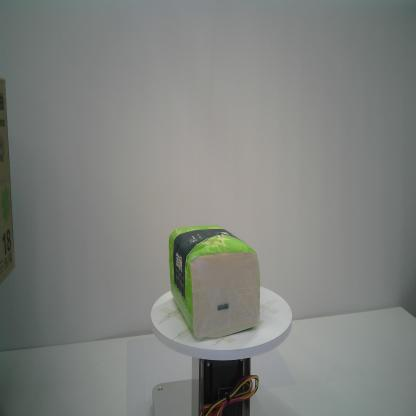Tissue: (168, 224, 260, 339)
